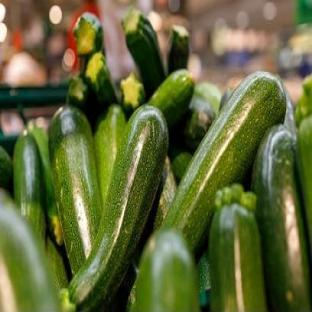Zucchini: (163, 72, 285, 250), (69, 106, 168, 310), (253, 125, 311, 311), (49, 106, 101, 273), (0, 191, 60, 311), (209, 202, 266, 311), (134, 231, 199, 311), (29, 124, 63, 244), (123, 8, 165, 95), (13, 132, 45, 243), (94, 105, 126, 208), (149, 70, 194, 128), (297, 116, 311, 253), (85, 52, 118, 106), (184, 95, 215, 151), (153, 156, 176, 230), (74, 12, 103, 56), (46, 237, 68, 290), (168, 26, 189, 73), (121, 72, 145, 111), (195, 82, 221, 115), (295, 75, 311, 125), (171, 147, 192, 182), (67, 76, 88, 110), (283, 86, 296, 137), (197, 250, 211, 291), (0, 147, 12, 190), (220, 88, 233, 110)
